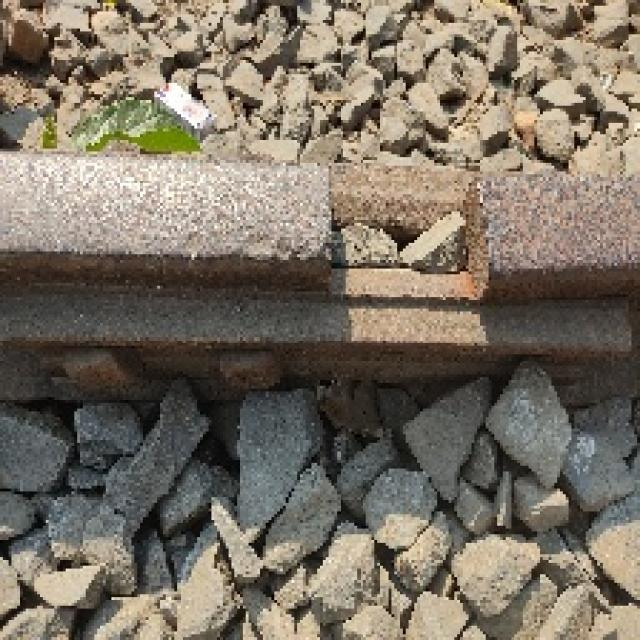Defective Joint: (0, 289, 637, 397)
